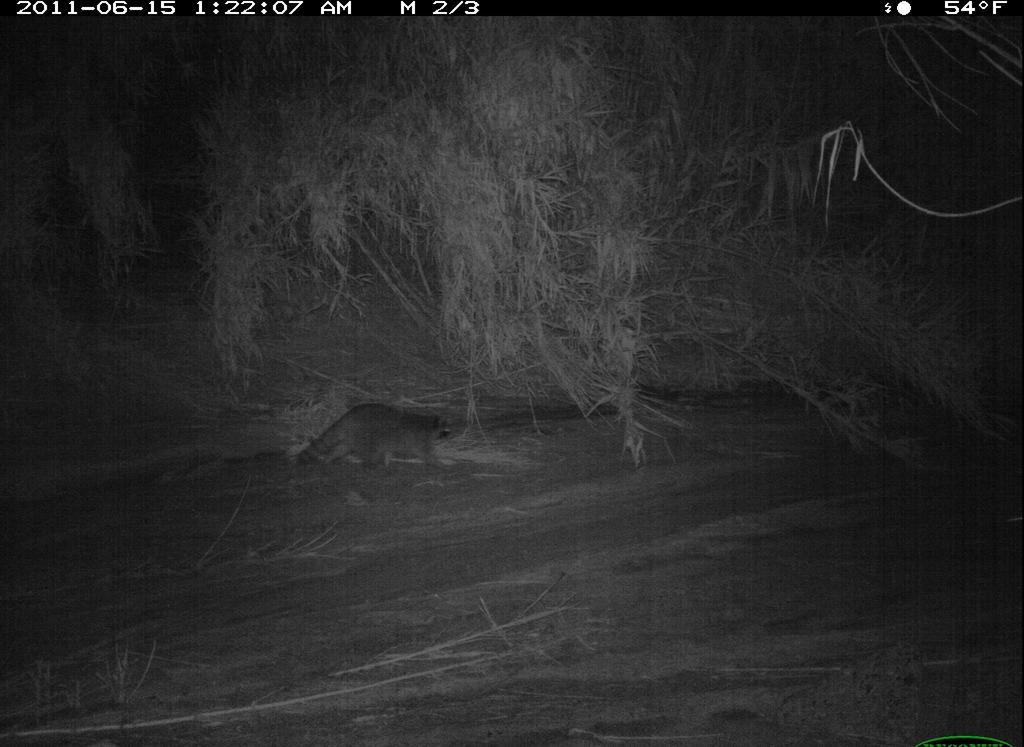raccoon: (278, 392, 479, 501)
